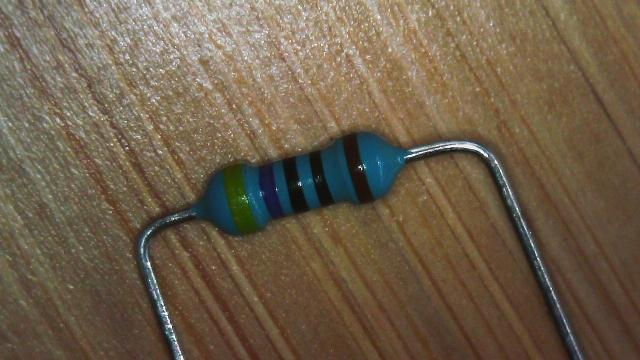black: (308, 150, 334, 206), (283, 156, 308, 212)
brown: (342, 134, 372, 204)
resistor: (184, 126, 430, 243)
violet: (259, 164, 284, 218)
yellow: (223, 165, 258, 234)
